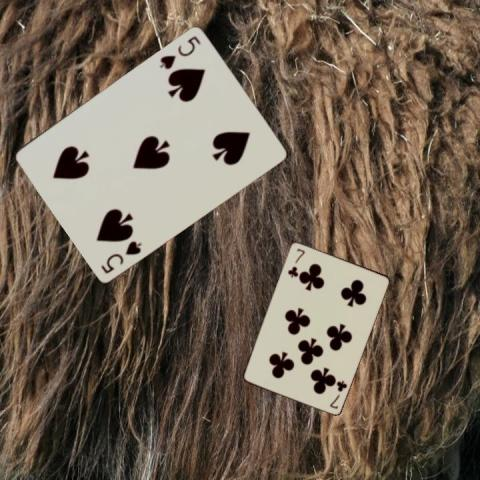5s: (157, 32, 202, 71), (98, 237, 143, 275)
7c: (326, 377, 348, 410), (285, 245, 306, 279)
